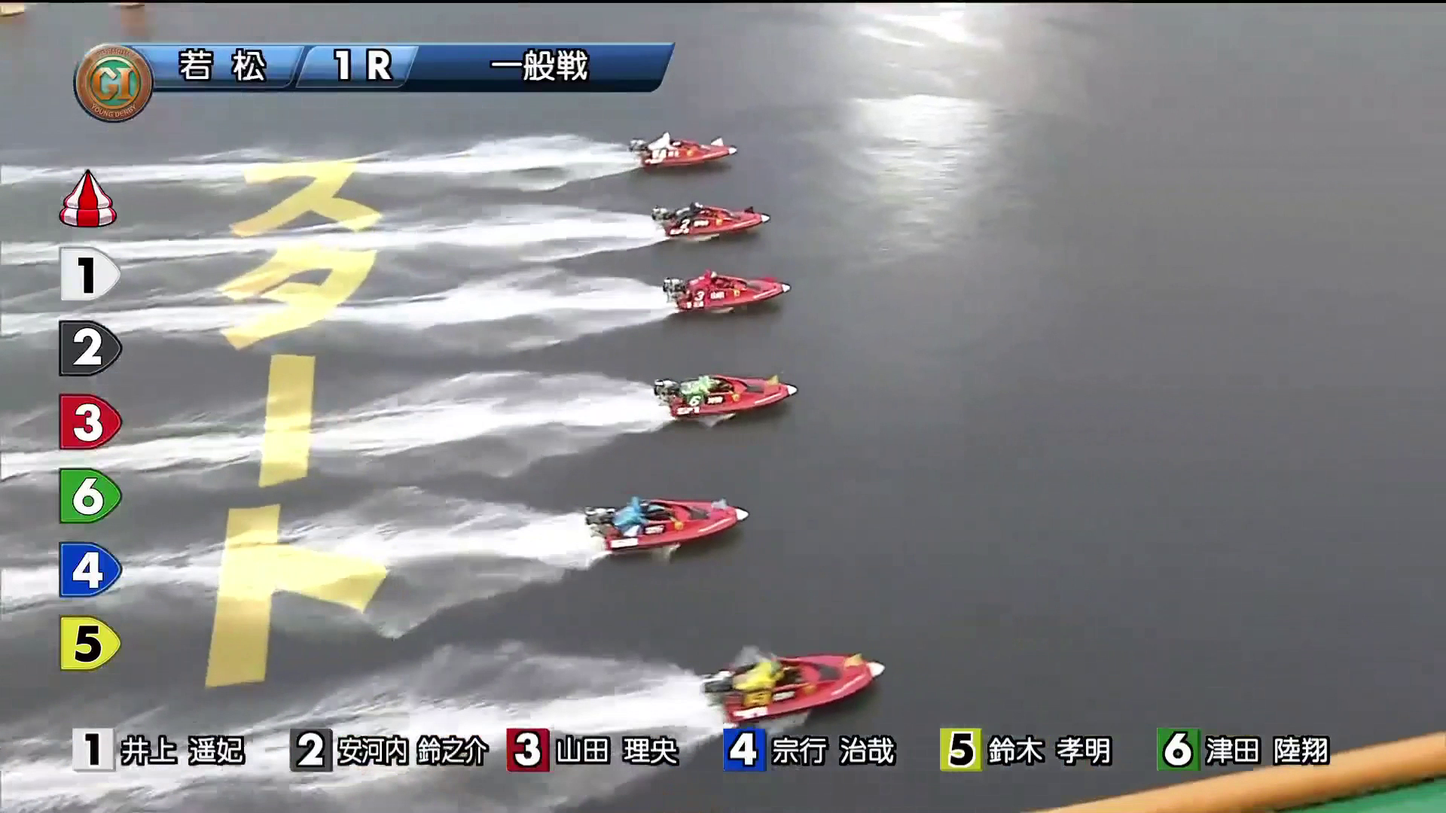１号艇: (640, 127, 715, 166)
２号艇: (660, 197, 763, 235)
３号艇: (674, 266, 799, 307)
４号艇: (681, 360, 786, 403)
５号艇: (609, 496, 729, 551)
６号艇: (710, 652, 868, 708)
